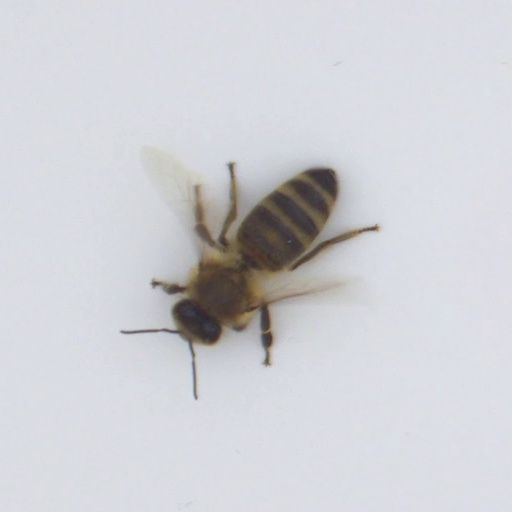Bee: (151, 149, 369, 365)
Thorax: (187, 262, 254, 329)
